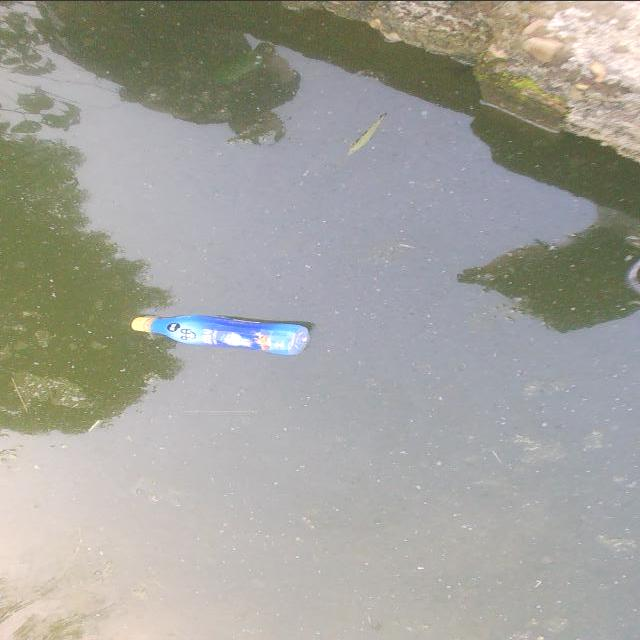bottle: (98, 304, 348, 376)
